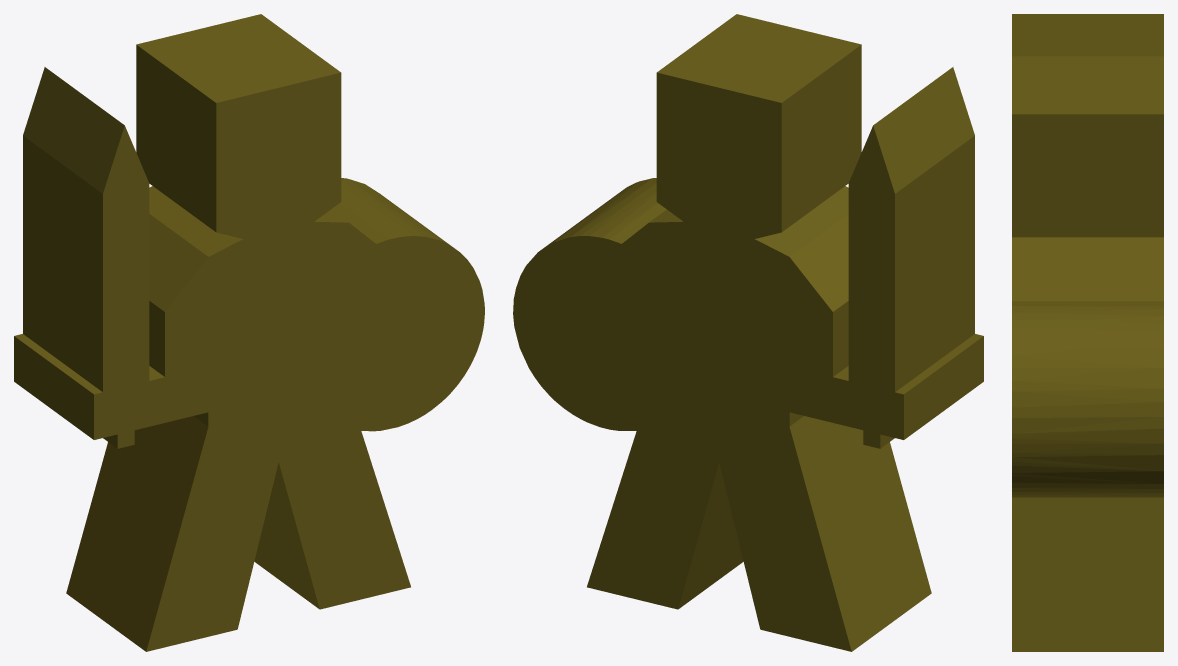
The model's file is tinker.obj.
3 renders of one model, left to right at view 1: azimuth 30°, elevation 25°; view 2: azimuth 150°, elevation 25°; view 3: azimuth 270°, elevation 25°, orthographic. The views are drawn at different scales.
Parts seen in each view (by area): view 1: obj_0; view 2: obj_0; view 3: obj_0.
Part boxes in pixels (left/top/right/bottom): obj_0: left=14, top=14, right=484, bottom=651; obj_0: left=513, top=14, right=983, bottom=651; obj_0: left=1012, top=14, right=1163, bottom=651.
Size of the model in its own units: 22.4 by 29.12 by 7.94.
